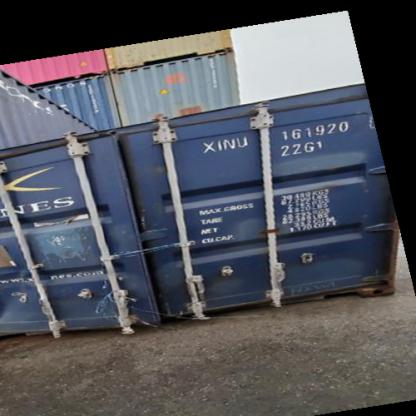Damage: (86, 274, 148, 330), (26, 222, 98, 268), (144, 154, 174, 176)
